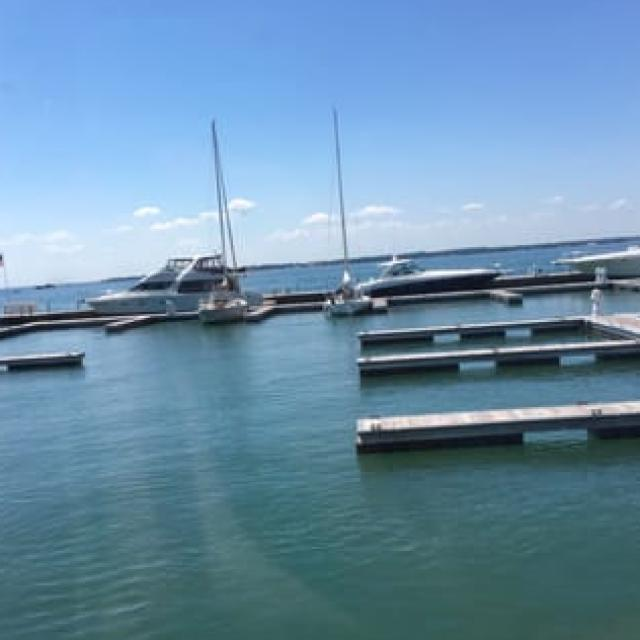houseboat: (80, 247, 252, 313), (350, 247, 496, 298), (549, 212, 640, 278)
